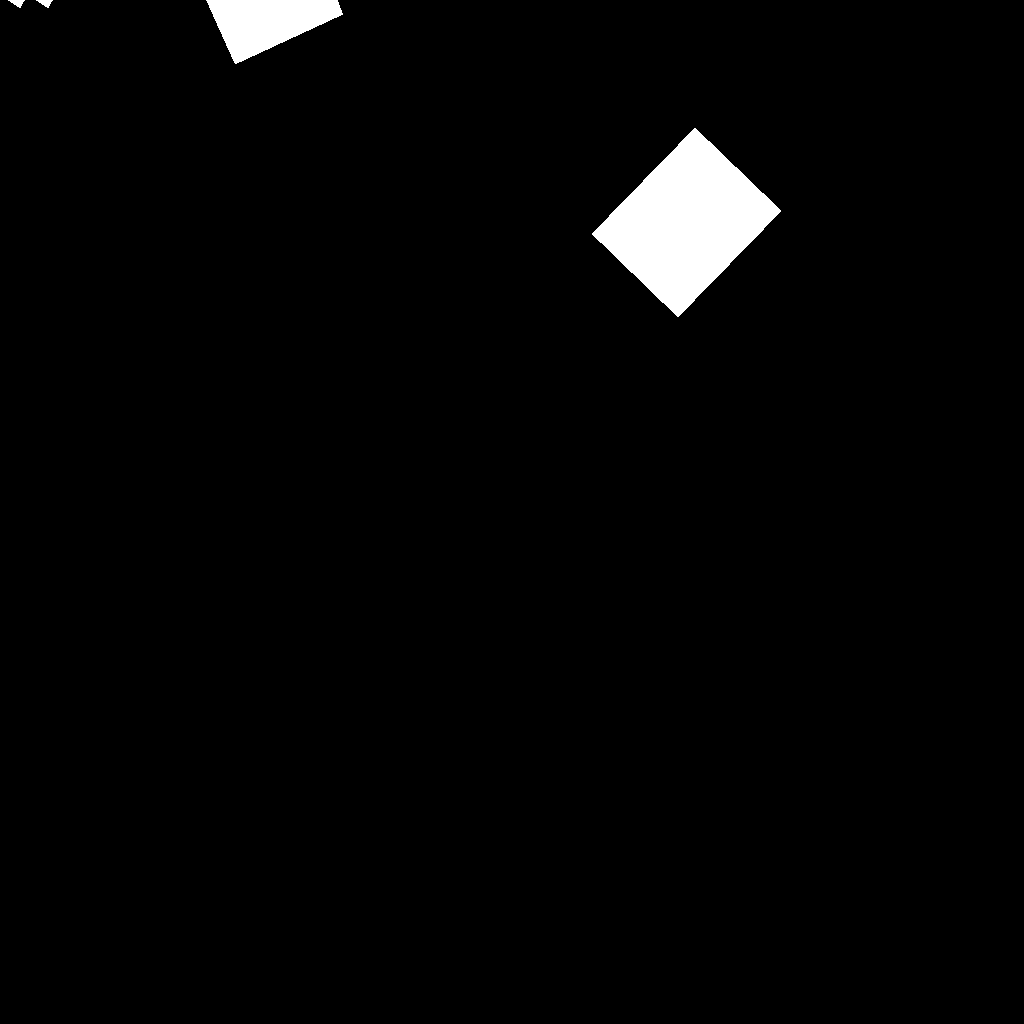building: (592, 128, 782, 318), (206, 0, 344, 65), (8, 0, 54, 9)
